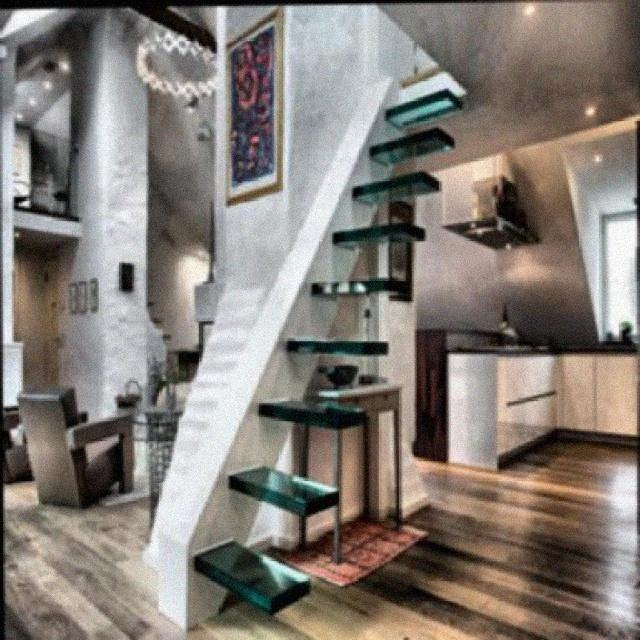stair: (188, 84, 463, 616)
